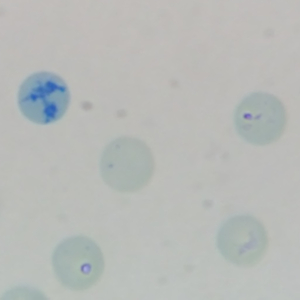aggregate reticulocyte: (15, 70, 72, 127)
erythrocyte: (48, 234, 107, 292), (231, 91, 289, 147), (214, 214, 269, 268)
punctate reticulocyte: (98, 135, 156, 196)
